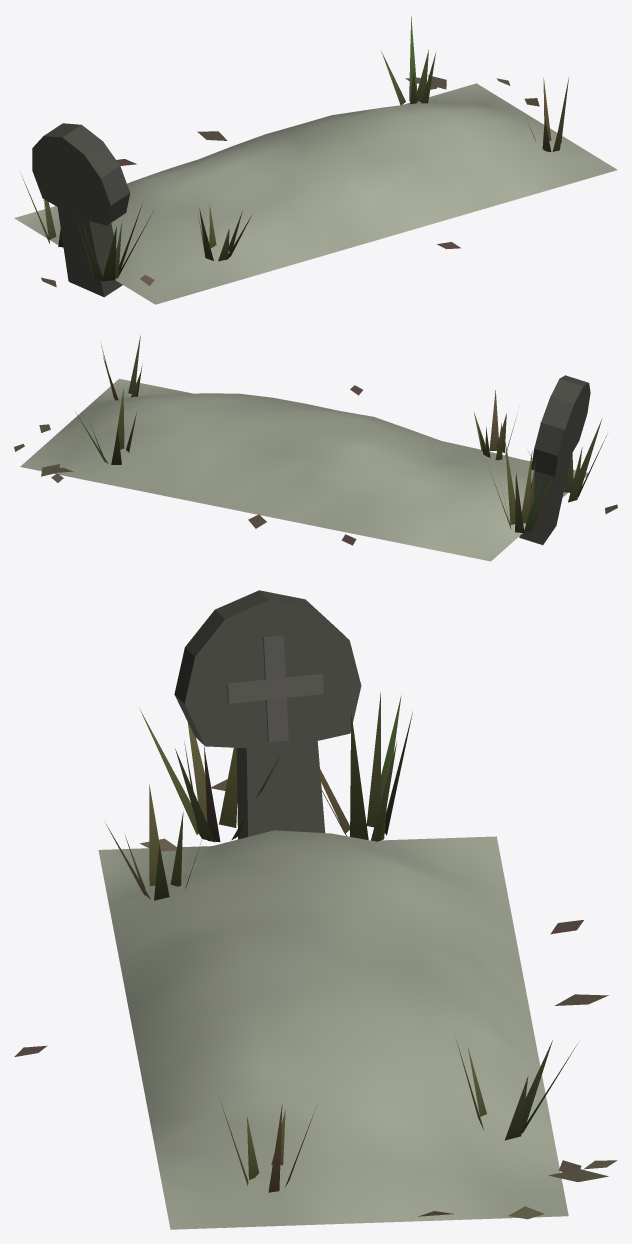
Rendered from prop_grave_stone.glb.
3 views of the same model, one above another, from view 1: azimuth 30°, elevation 25°; view 2: azimuth 150°, elevation 25°; view 3: azimuth 270°, elevation 25° (orthographic). The views are drawn at different scales.
Parts seen in each view (by area): view 1: GraveStoneSoft, GraveStone; view 2: GraveStoneSoft, GraveStone; view 3: GraveStoneSoft, GraveStone.
Boxes of the visible parts, bbox=[...] form: GraveStoneSoft: bbox=[14, 83, 617, 304]; GraveStone: bbox=[21, 16, 568, 297]; GraveStoneSoft: bbox=[20, 378, 589, 561]; GraveStone: bbox=[14, 334, 617, 545]; GraveStoneSoft: bbox=[98, 830, 568, 1229]; GraveStone: bbox=[14, 590, 617, 1219].
Size of the model in its own units: 2.13 by 0.613 by 1.24.
